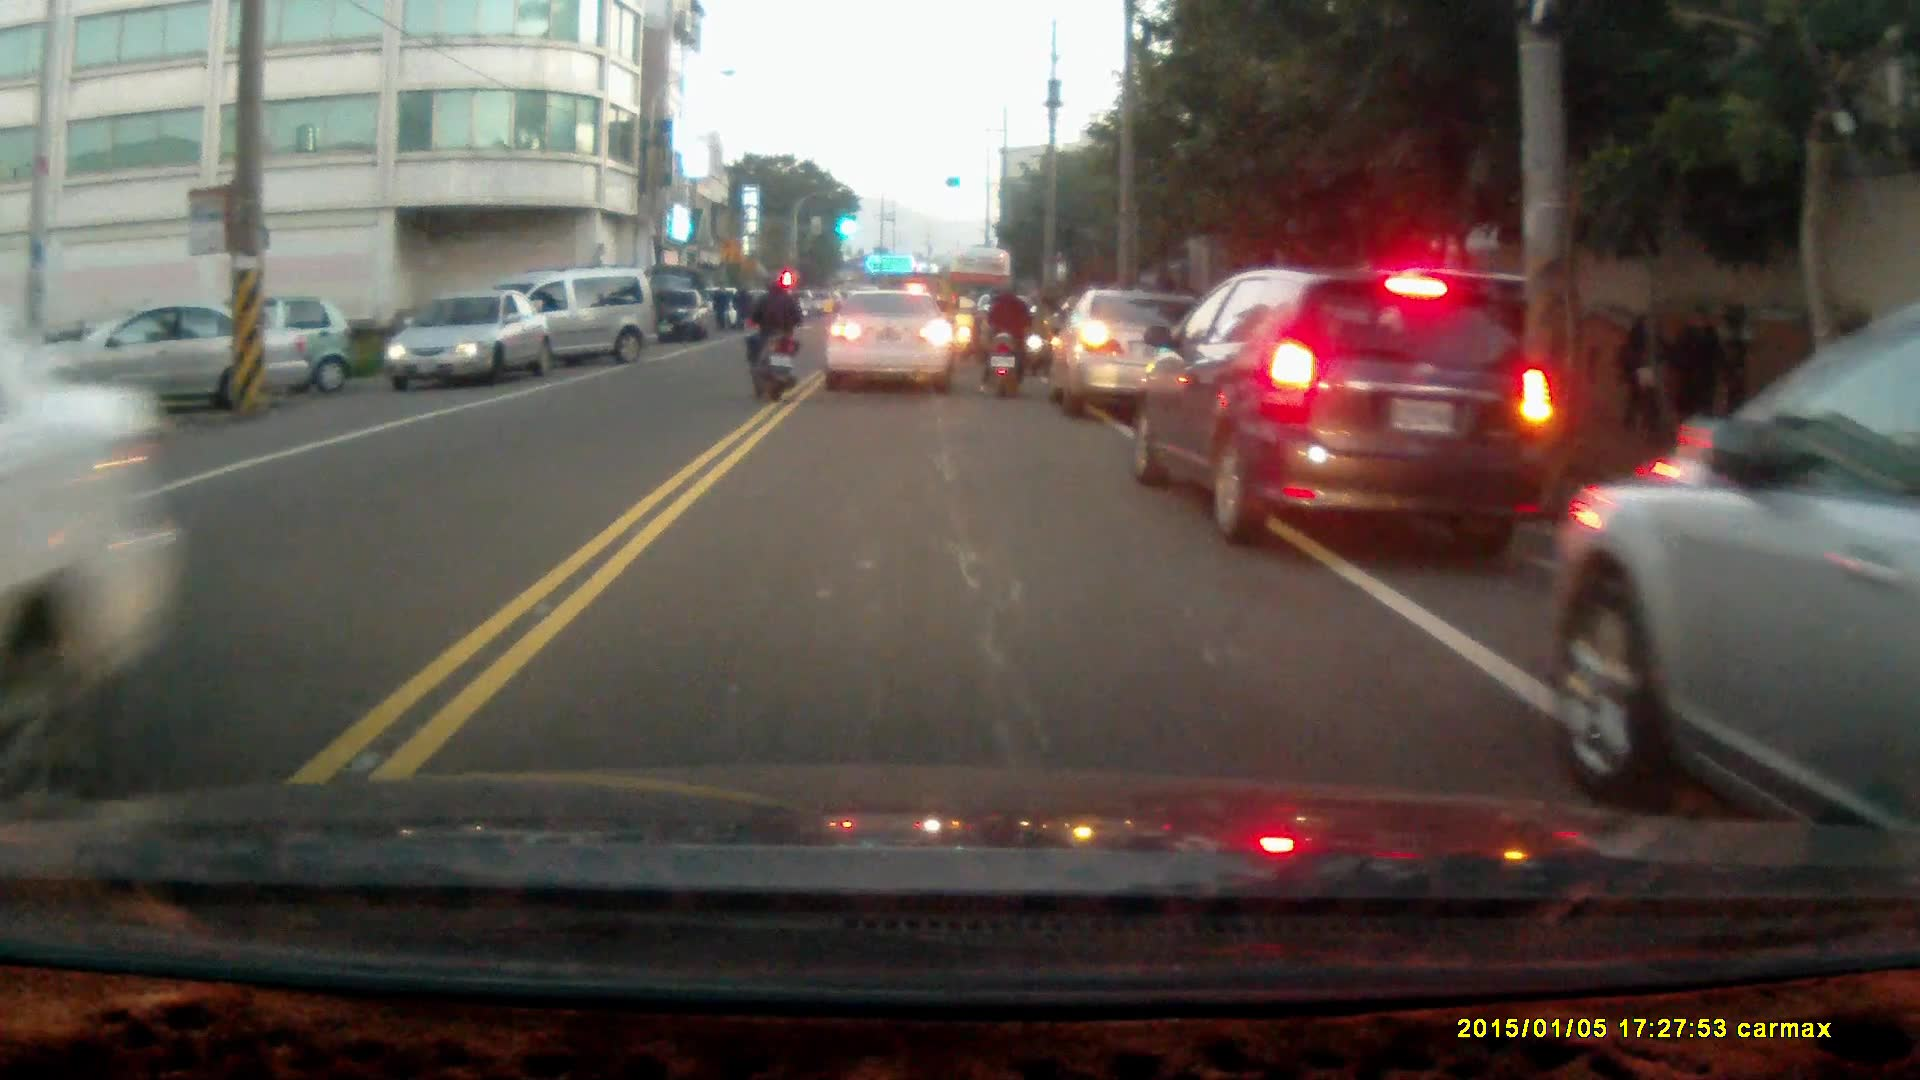pedestrian: (1673, 303, 1727, 445), (1622, 304, 1670, 448)
rider: (743, 276, 804, 401), (977, 272, 1037, 401)
vehicle: (1541, 317, 1920, 864), (1126, 264, 1558, 547), (141, 294, 359, 397), (1046, 287, 1205, 415), (484, 267, 659, 374), (385, 288, 550, 392), (825, 288, 955, 398), (650, 289, 708, 345)
